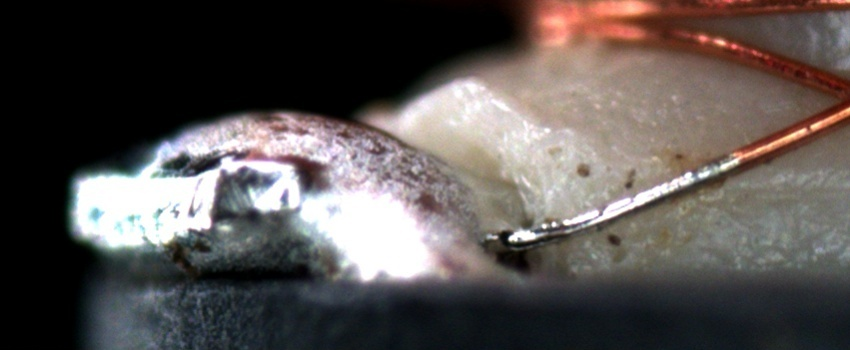CL: (806, 62, 849, 133)
DL: (717, 160, 849, 219)
TS: (501, 152, 742, 251)
